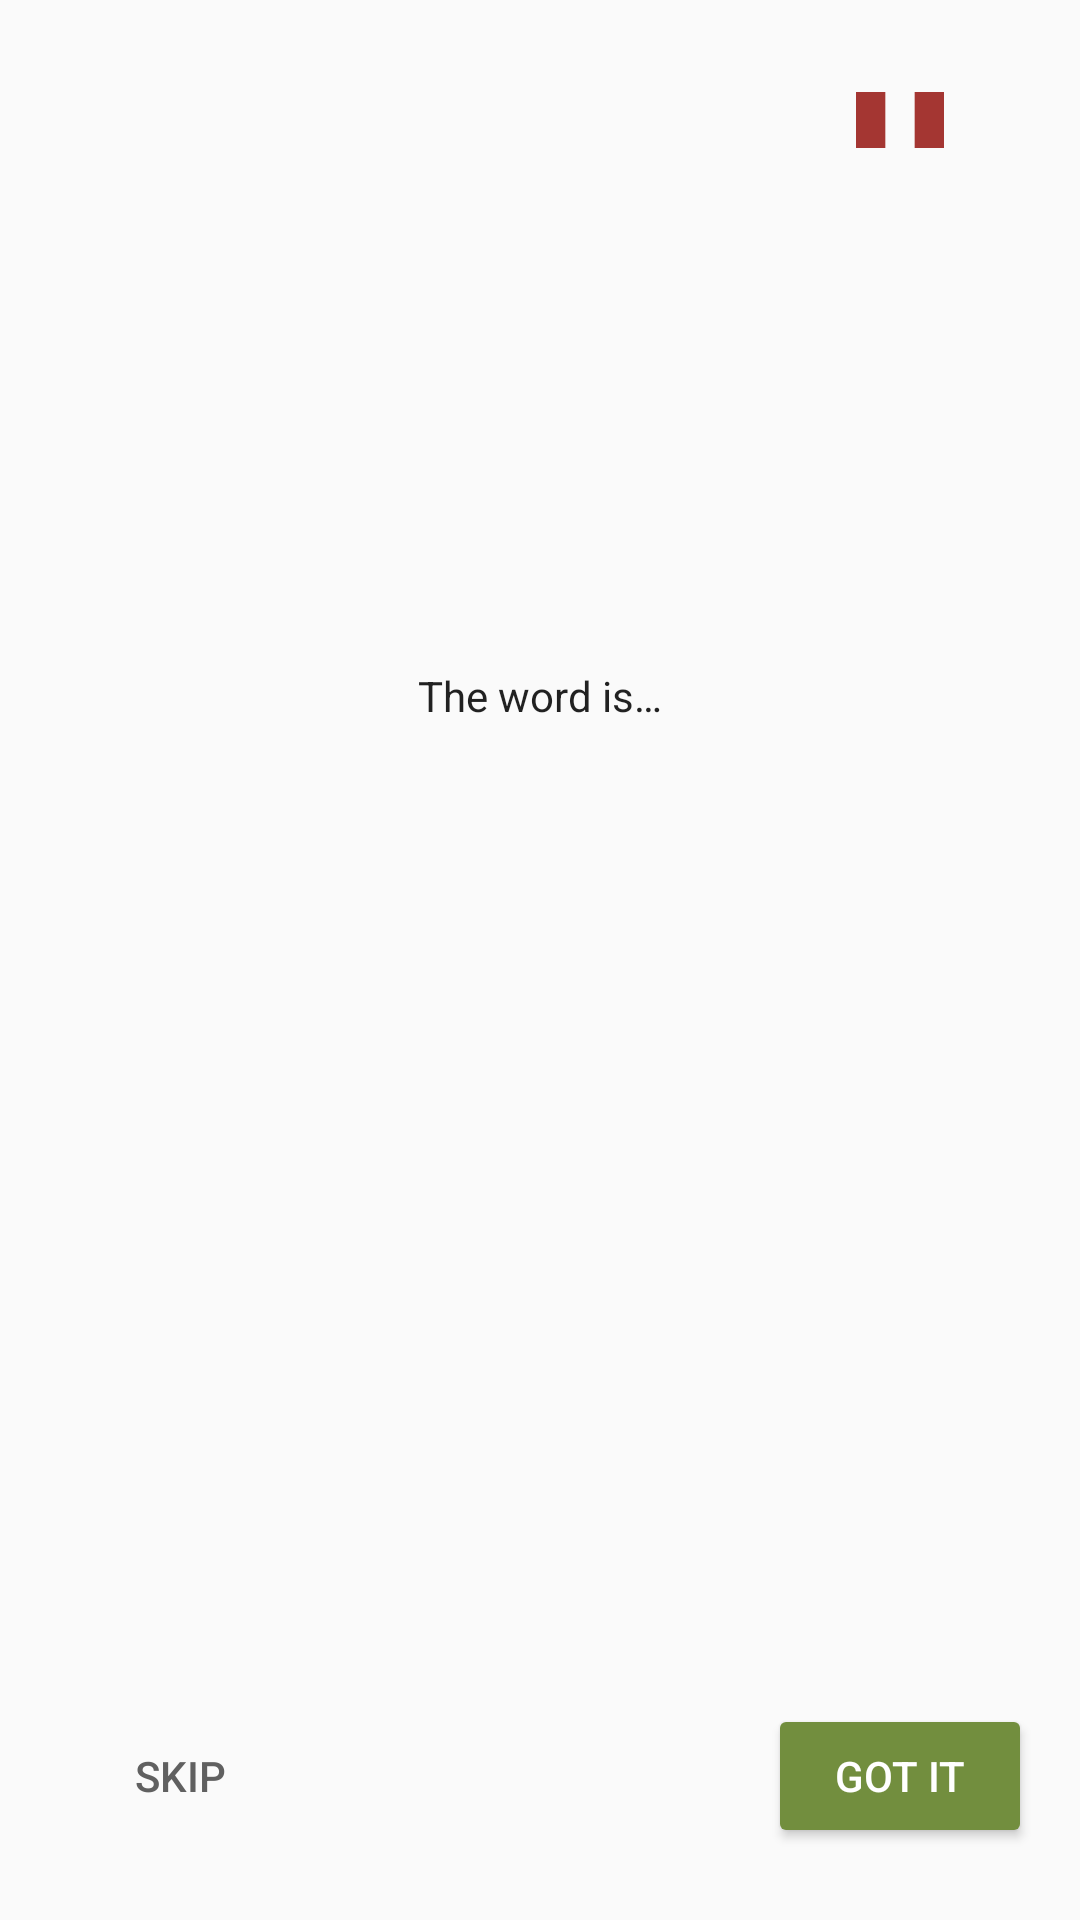

Icon click points for this 1080px x 1920px phone screenshot, format point (x, y):
pause: point (900, 120)
